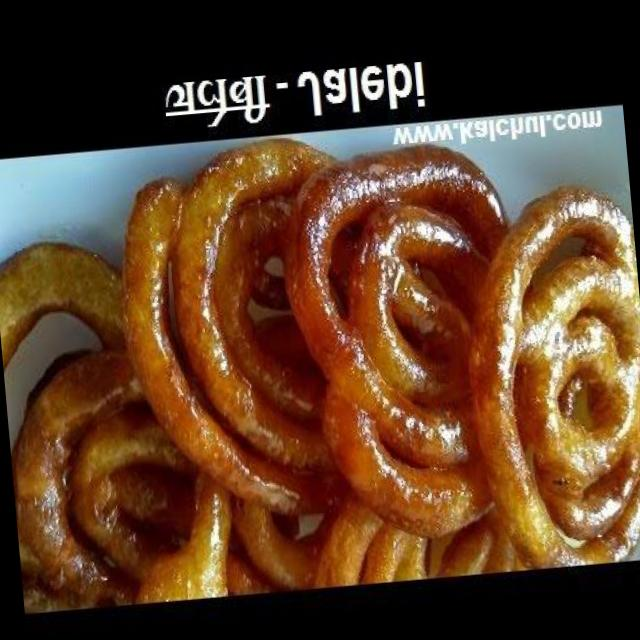jalebi: (0, 111, 640, 624)
